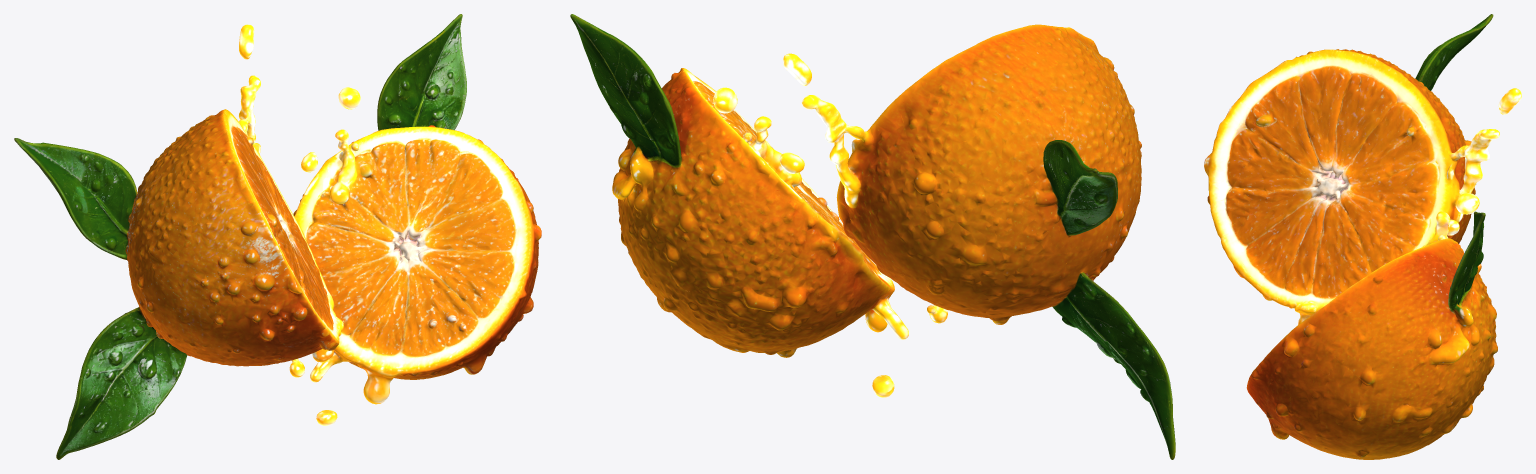
The model's file is citrus-splash.glb.
3 renders of one model, left to right at view 1: azimuth 30°, elevation 25°; view 2: azimuth 150°, elevation 25°; view 3: azimuth 270°, elevation 25°, orthographic. The views are drawn at different scales.
Parts seen in each view (by area): view 1: mesh_node; view 2: mesh_node; view 3: mesh_node.
Boxes of the visible parts, x1,y1,x2,y2 form: mesh_node: (14, 14, 541, 459); mesh_node: (570, 14, 1175, 459); mesh_node: (1204, 14, 1521, 459).
Bounding box in the file's own units: 1.87 × 1.33 × 1.1.
1 material, 1 textured.
